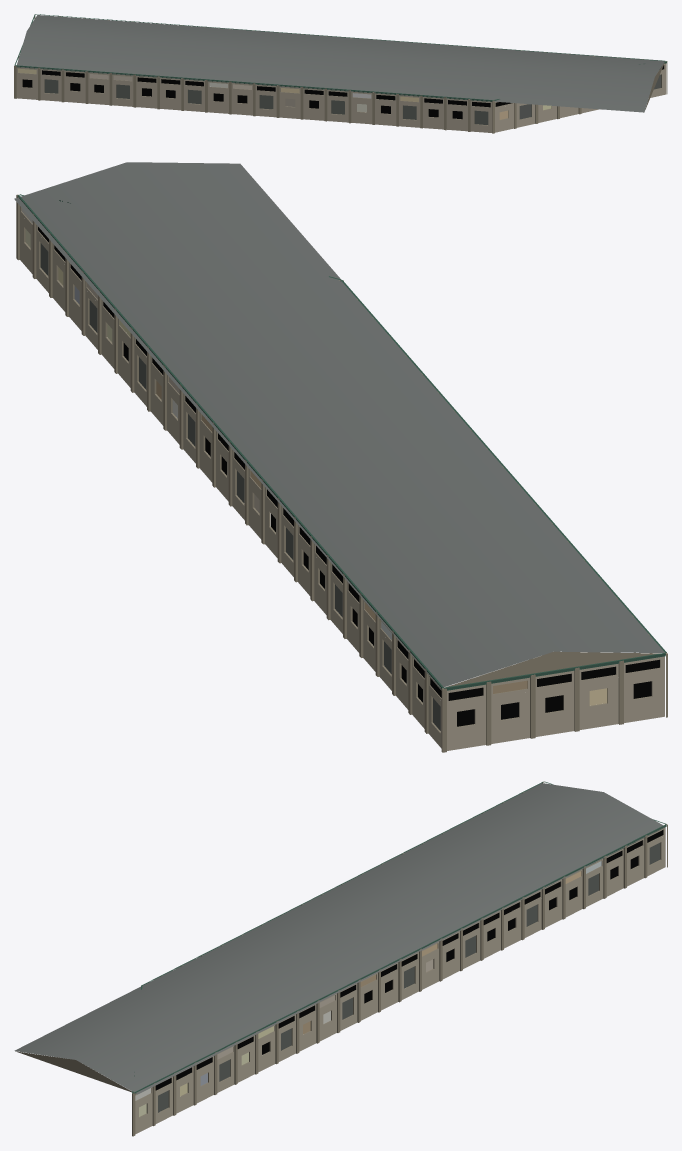
File: pier45_lod0.glb
The picture shows the model from 3 angles, top to bottom: view 1: azimuth 30°, elevation 25°; view 2: azimuth 150°, elevation 25°; view 3: azimuth 270°, elevation 25°; orthographic projection. The views are drawn at different scales.
Parts seen in each view (by area): view 1: L0_roof, L0_stucco, L0_win, L0_paint, L0_metal; view 2: L0_roof, L0_stucco, L0_win, L0_paint, L0_metal; view 3: L0_roof, L0_stucco, L0_win, L0_paint, L0_metal.
Part boxes in pixels (left/top/right/bottom): L0_roof: left=16, top=15, right=664, bottom=112; L0_stucco: left=14, top=16, right=667, bottom=133; L0_win: left=18, top=65, right=663, bottom=119; L0_paint: left=14, top=14, right=666, bottom=101; L0_metal: left=44, top=74, right=661, bottom=124; L0_roof: left=14, top=162, right=664, bottom=688; L0_stucco: left=16, top=194, right=667, bottom=752; L0_win: left=21, top=208, right=659, bottom=726; L0_paint: left=17, top=194, right=666, bottom=690; L0_metal: left=40, top=243, right=440, bottom=730; L0_roof: left=14, top=783, right=665, bottom=1094; L0_stucco: left=15, top=781, right=667, bottom=1136; L0_win: left=135, top=830, right=663, bottom=1116; L0_paint: left=132, top=781, right=666, bottom=1094; L0_metal: left=158, top=843, right=660, bottom=1112.
Size of the model in its own units: 179 by 14.5 by 158.
